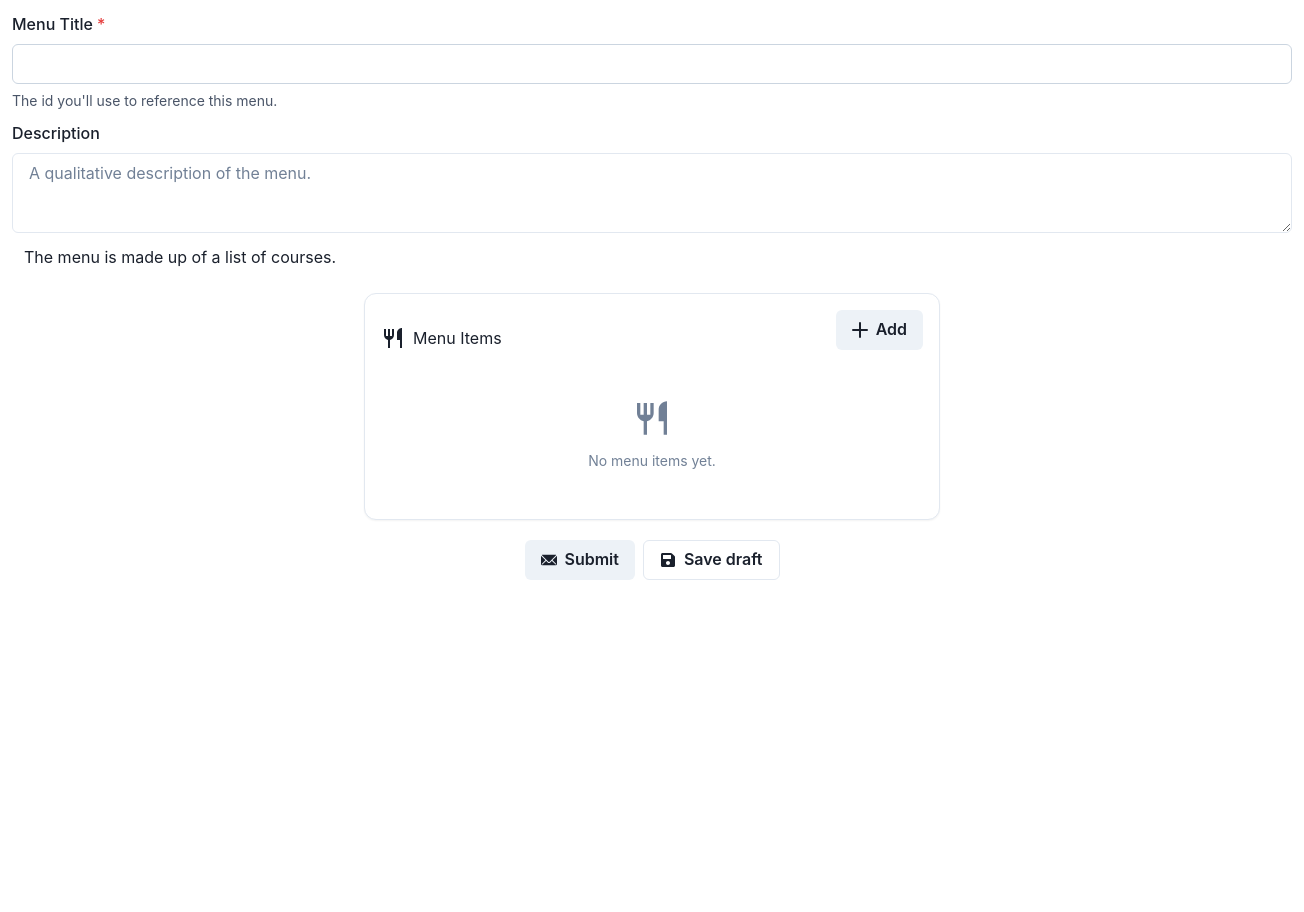
Test: MenuRequestForm › Save draft functionality › saves menu as draft with only title (no dishes required)
The image size is (1304, 912).
# Enter only the title (no dishes)
Type "My Draft Menu" into the field labelled "Menu Title*" at (652, 64), box [12,44,1292,84]
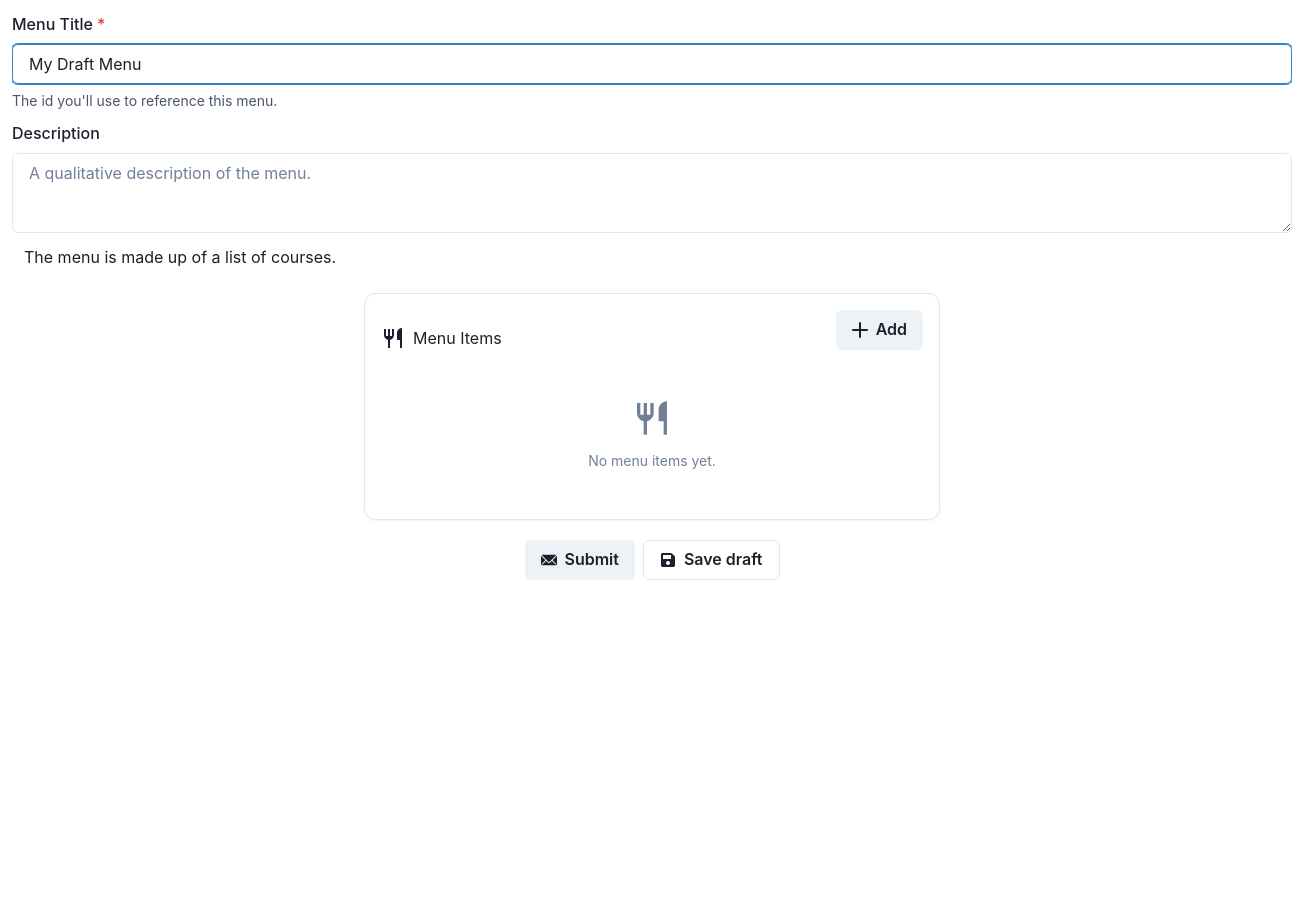
# Click save draft
Click the button "Save draft" at (711, 560), box [643,540,780,580]
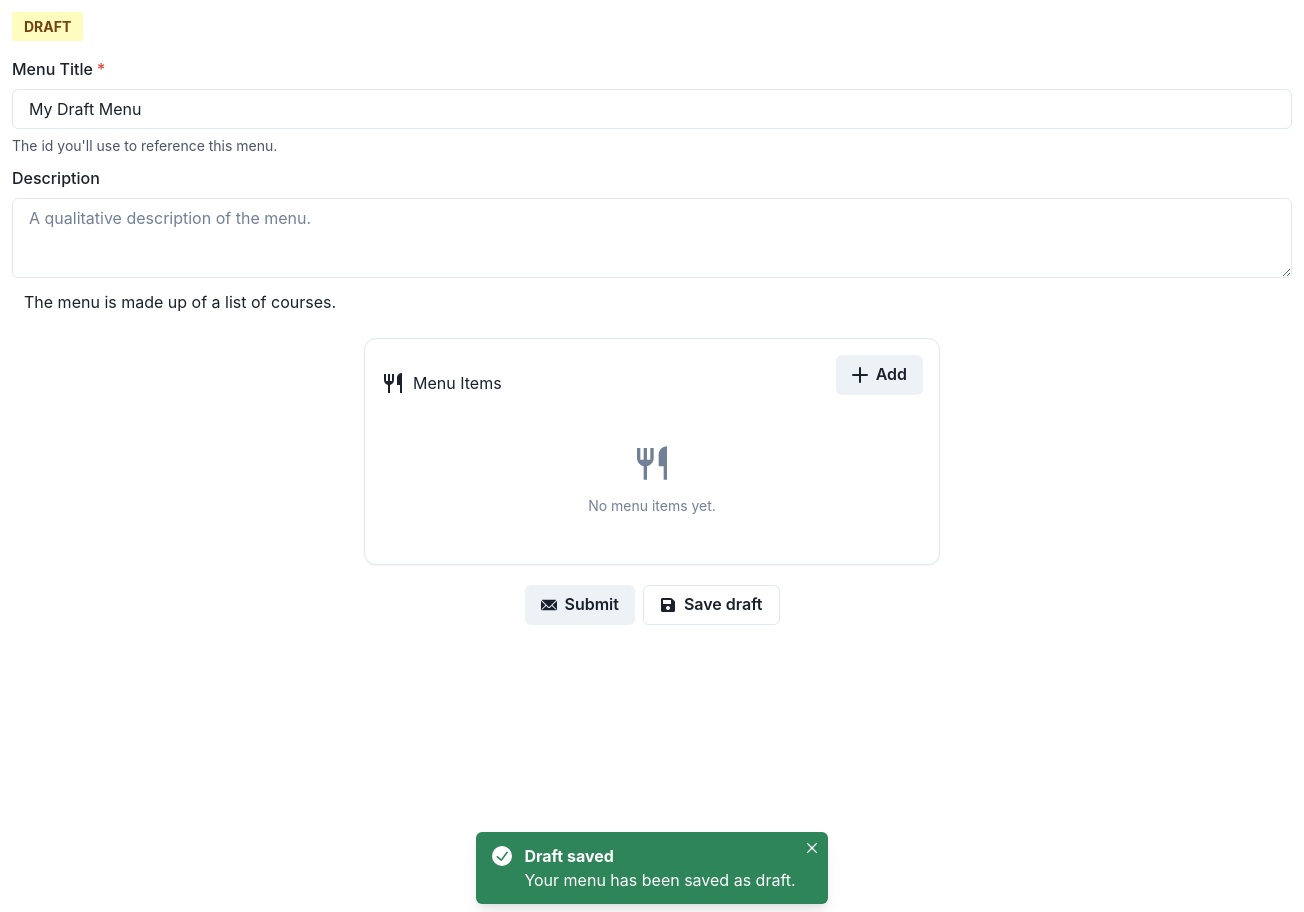
Result: the text "Draft saved" is shown at [524,846,614,866]
